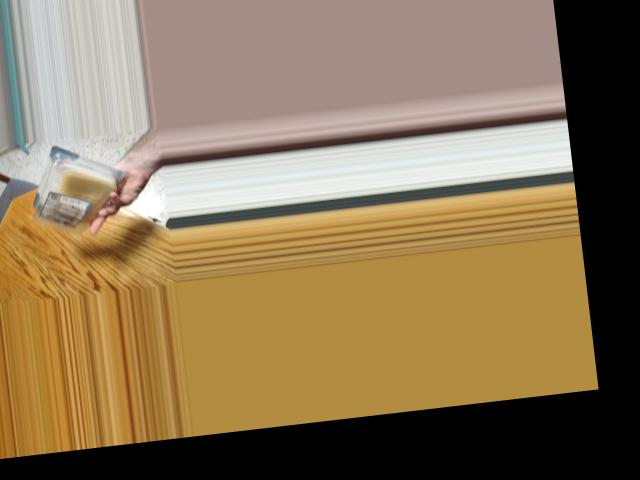cheese: (21, 149, 126, 236)
